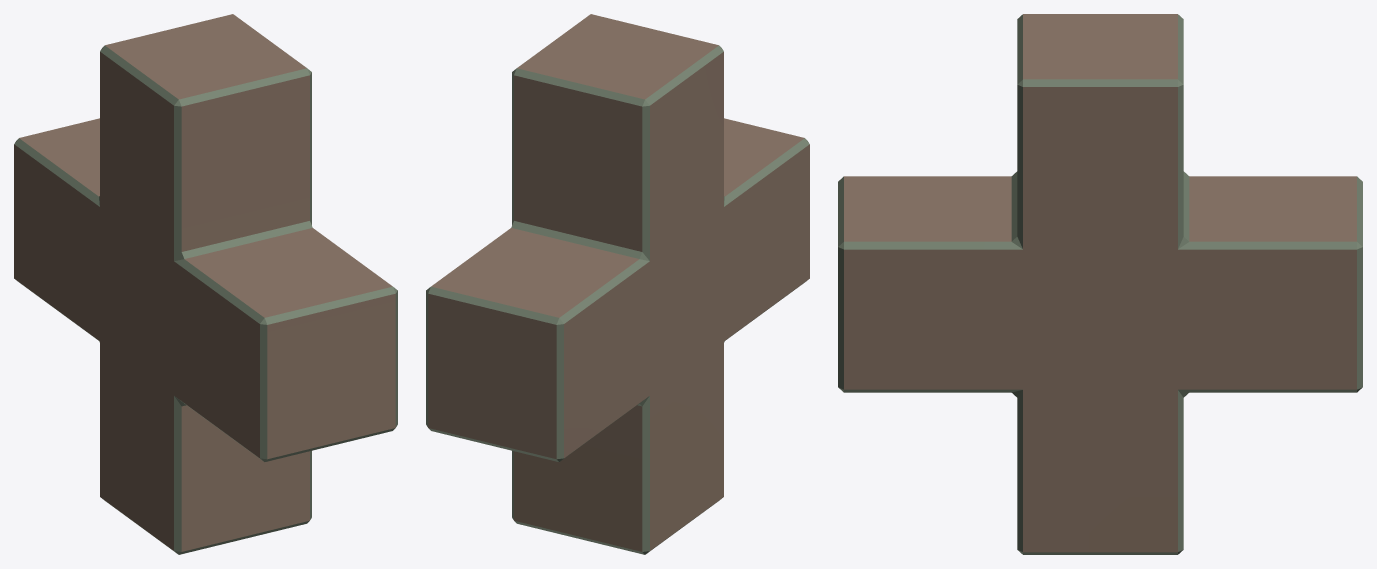
Rendered from FX_HealCross.fbx.
3 renders of one model, left to right at view 1: azimuth 30°, elevation 25°; view 2: azimuth 150°, elevation 25°; view 3: azimuth 270°, elevation 25°, orthographic. The views are drawn at different scales.
Parts seen in each view (by area): view 1: FX_HealCross; view 2: FX_HealCross; view 3: FX_HealCross.
Boxes of the visible parts, <box> form: FX_HealCross: <box>14,14,397,554</box>; FX_HealCross: <box>426,14,809,554</box>; FX_HealCross: <box>838,14,1362,554</box>.
Size of the model in its own units: 0.1868 by 0.5892 by 0.5892.
